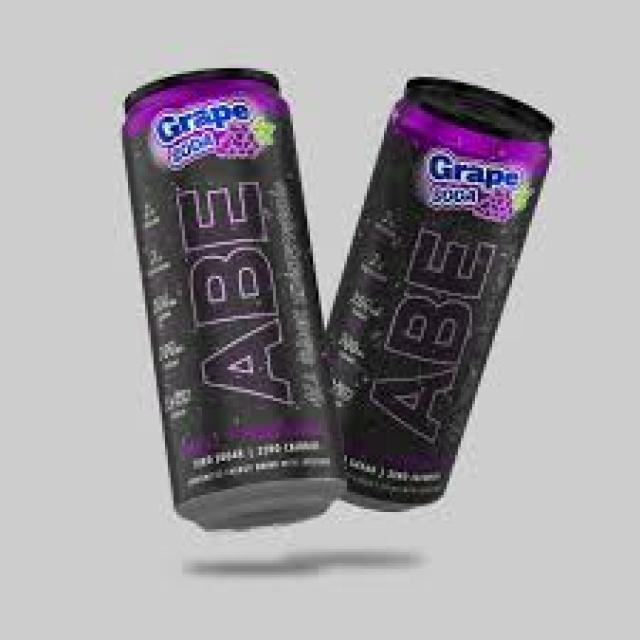Cans: (117, 60, 356, 529), (336, 59, 558, 534)
